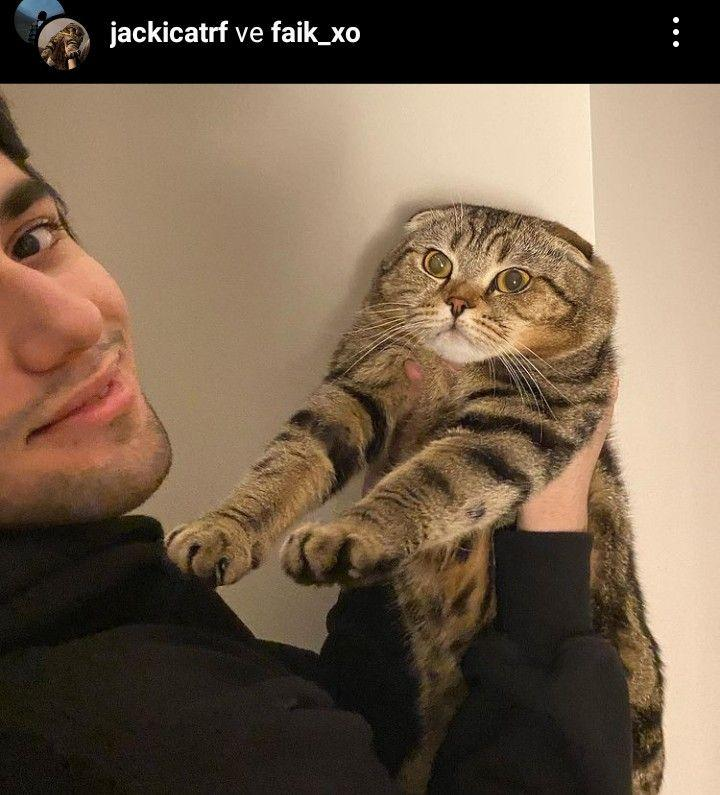kedo: (369, 205, 618, 390)
